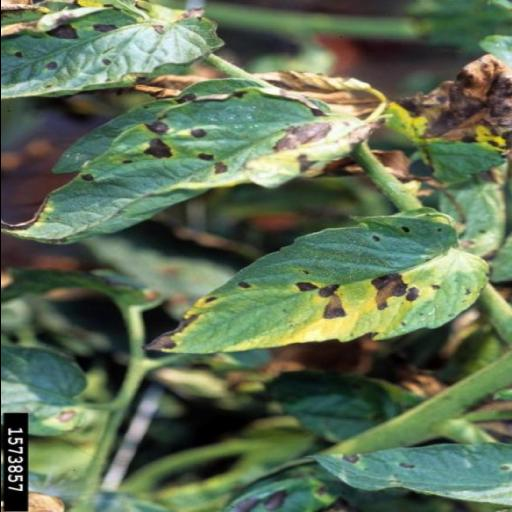disease_tomato: (28, 88, 366, 248), (166, 208, 476, 370), (0, 6, 221, 98)
